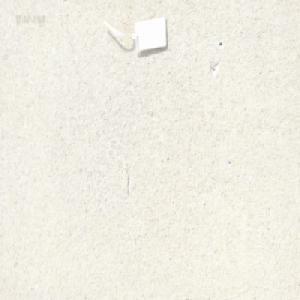LuggageTag: (100, 15, 169, 57)
